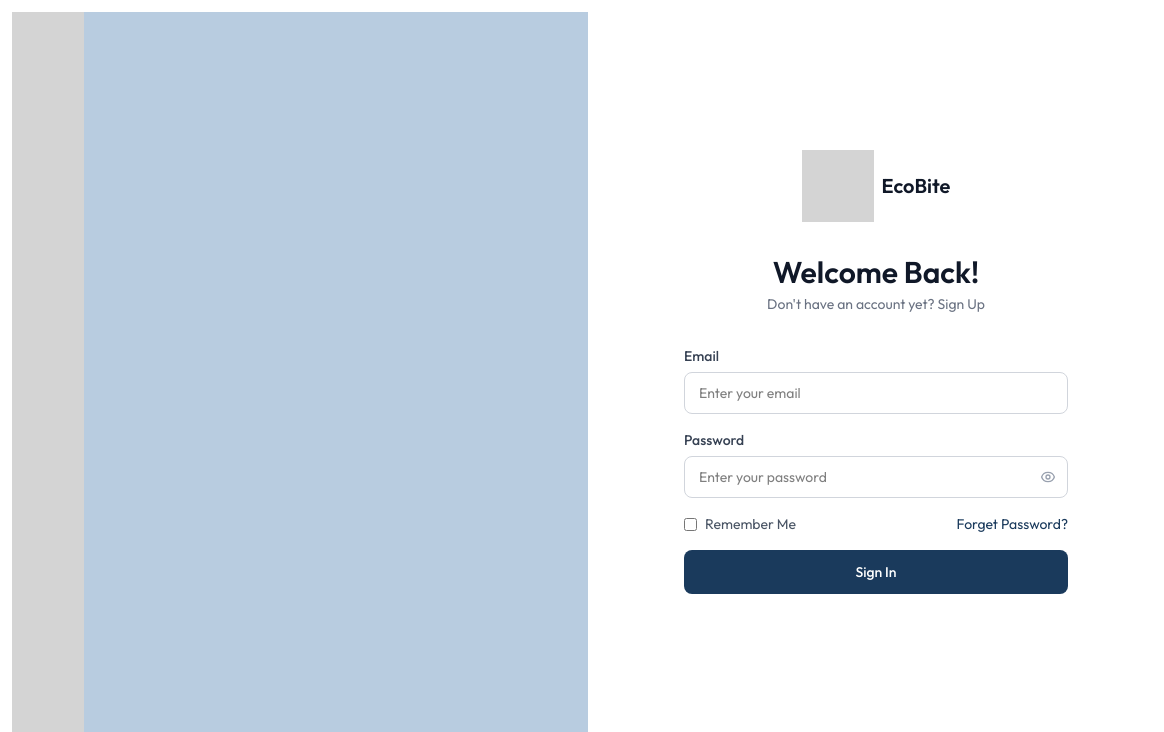
Test: LoginForm › menampilkan error ketika login gagal
Type "test@example.com" into the field with placeholder "Enter your email" at (876, 393), box left=684, top=372, right=1068, bottom=414
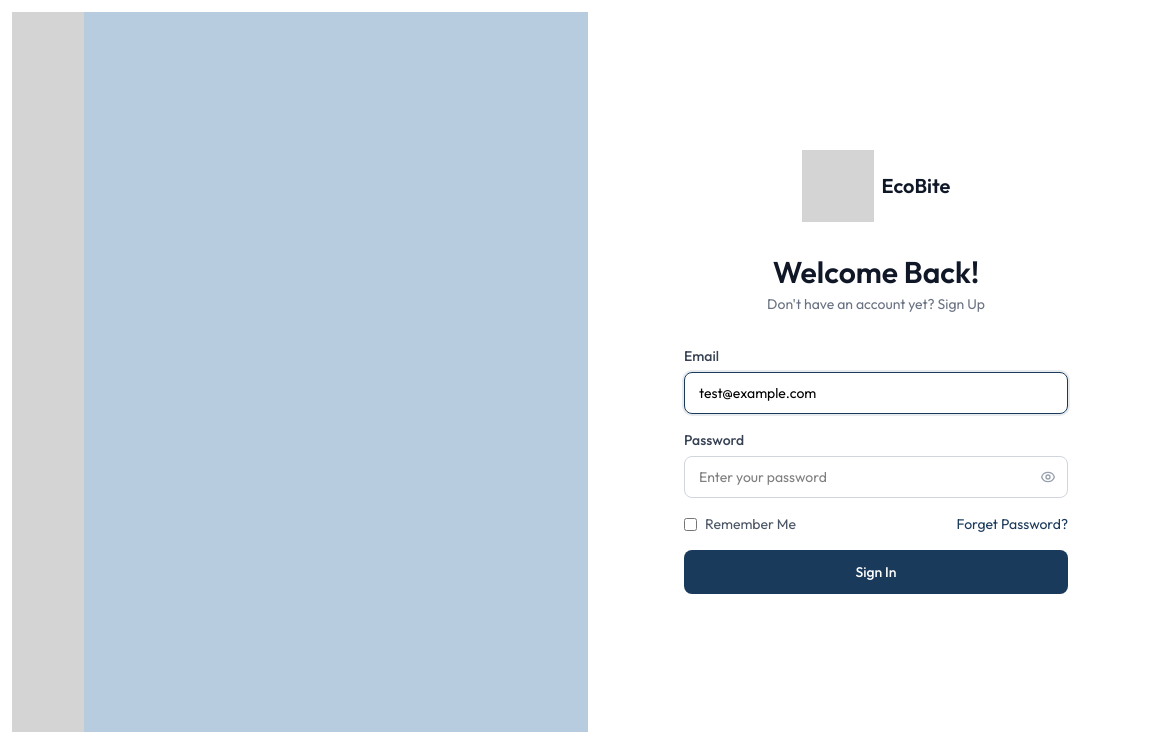
Type "wrongpassword" into the password field with placeholder "Enter your password" at (876, 477), box left=684, top=456, right=1068, bottom=498
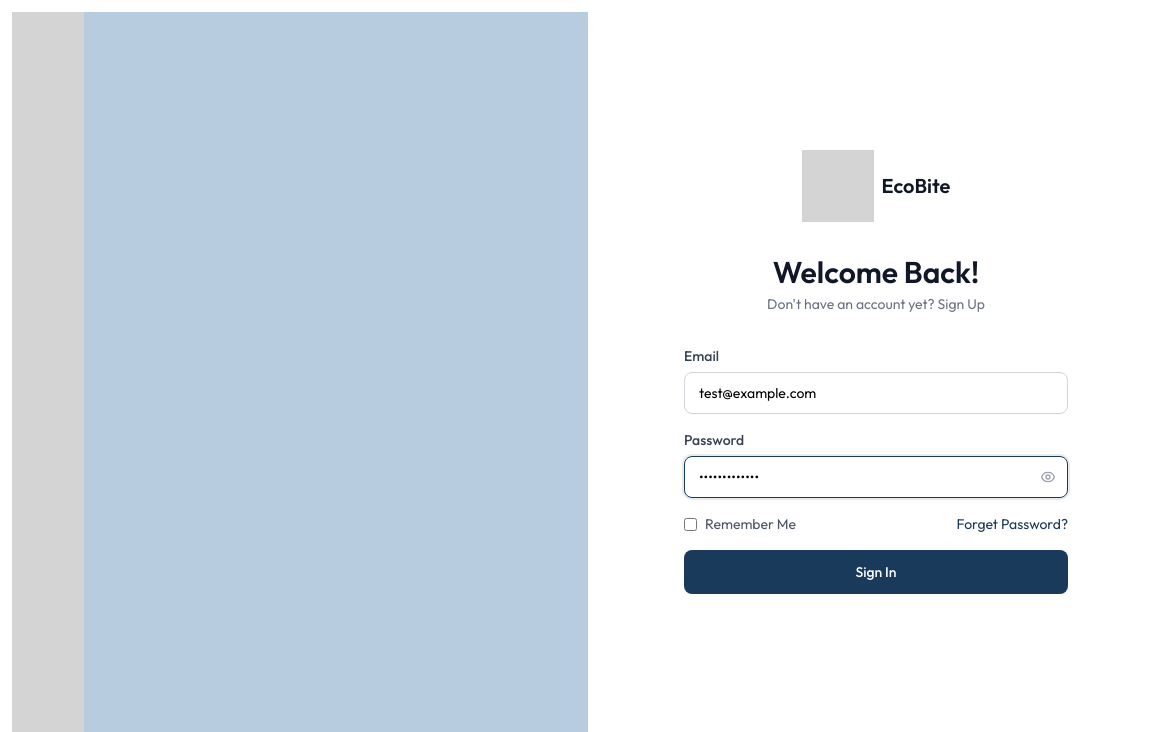
Click the button "Sign In" at (876, 572), box left=684, top=550, right=1068, bottom=594
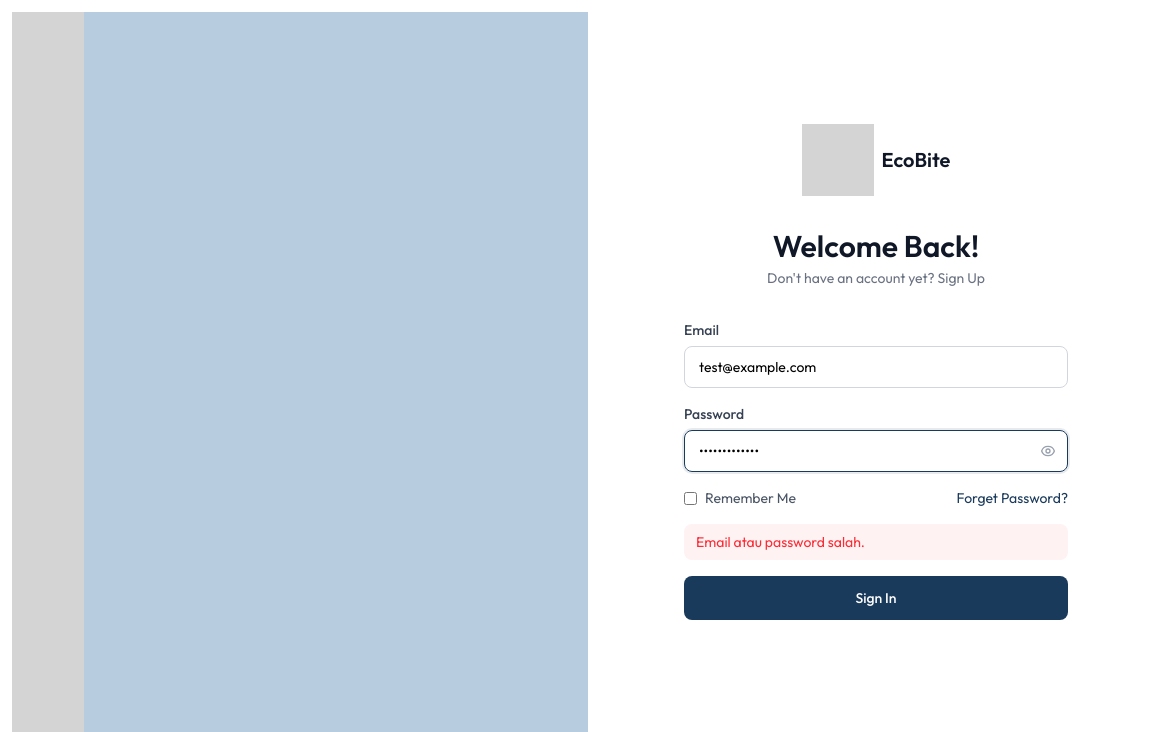
Result: the text "Email atau password salah." is shown at left=684, top=524, right=1068, bottom=560
